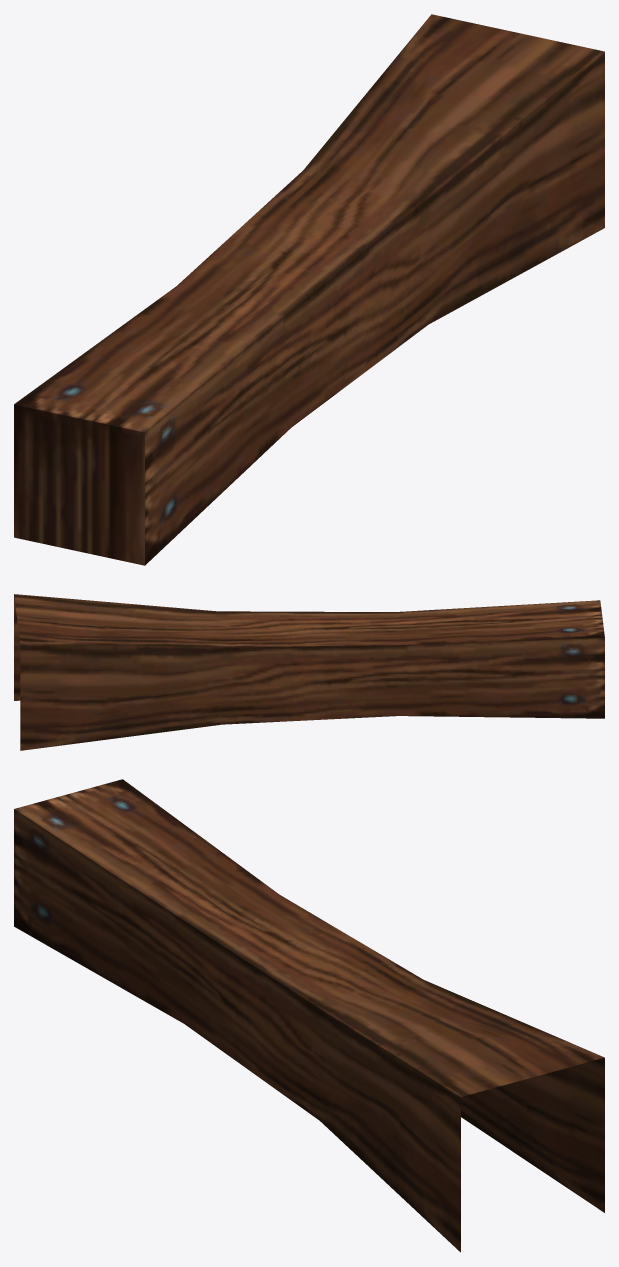
Rendered from OVERHILL_A_01_POST32.fbx.
3 renders of one model, top to bottom at view 1: azimuth 30°, elevation 25°; view 2: azimuth 150°, elevation 25°; view 3: azimuth 270°, elevation 25°, orthographic. The views are drawn at different scales.
Parts seen in each view (by area): view 1: OVERHILL_A_01_POST32; view 2: OVERHILL_A_01_POST32; view 3: OVERHILL_A_01_POST32.
Boxes of the visible parts, bbox=[...] form: OVERHILL_A_01_POST32: bbox=[14, 14, 604, 565]; OVERHILL_A_01_POST32: bbox=[14, 594, 604, 750]; OVERHILL_A_01_POST32: bbox=[14, 779, 604, 1252].
Size of the model in its own units: 19958 by 4299 by 14791.
1 material, 1 textured.
